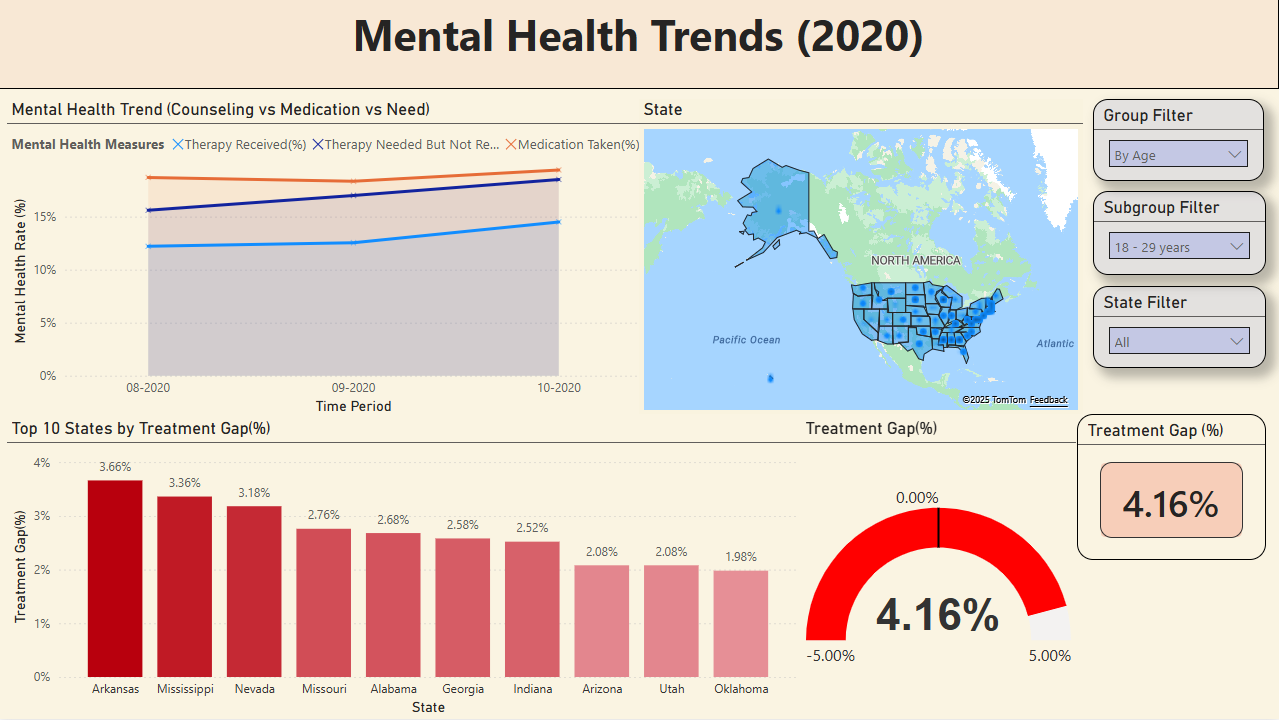

The page's visual inventory and layout, read from the dashboard file:
{"tool":"powerbi","page":{"name":"Page 1","canvas":[1280,720],"ordinal":0},"visuals":[{"type":"lineChart","title":"Mental Health Trend (Counseling vs Medication vs Need)","fields":{"Category":["Calendar.YearMonth"],"Y":["Mental_Health_Care_in_the_Last_4_Weeks.TherapyReceived%","Mental_Health_Care_in_the_Last_4_Weeks.TherapyNeededButNotReceived%","Mental_Health_Care_in_the_Last_4_Weeks.MedicationTaken%"]},"box":[8.1,99.7,639.2,319.6],"z":0},{"type":"slicer","title":"State Filter","fields":{"Values":["Mental_Health_Care_in_the_Last_4_Weeks.State"]},"box":[1094.2,286.9,173.1,82.5],"z":1000},{"type":"slicer","title":"Group Filter","fields":{"Values":["Mental_Health_Care_in_the_Last_4_Weeks.Group"]},"box":[1094.2,99.9,170.7,82.5],"z":2000},{"type":"slicer","title":"Subgroup Filter","fields":{"Values":["Mental_Health_Care_in_the_Last_4_Weeks.Subgroup"]},"box":[1094.2,191.7,173.1,84.8],"z":3000},{"type":"textbox","box":[0,0,1280,89.7],"z":4000},{"type":"azureMap","fields":{"Category":["Mental_Health_Care_in_the_Last_4_Weeks.State"]},"box":[640,99.9,443.7,314.8],"z":5000},{"type":"cardVisual","title":"Treatment Gap (%)","fields":{"Data":["Mental_Health_Care_in_the_Last_4_Weeks.Treatment Gap(%)"]},"box":[1077.9,414.7,189.3,146.4],"z":6000},{"type":"clusteredColumnChart","title":"Top 10 States by Treatment Gap(%)","fields":{"Category":["Mental_Health_Care_in_the_Last_4_Weeks.State"],"Y":["Mental_Health_Care_in_the_Last_4_Weeks.Treatment Gap(%)"]},"box":[8.1,419.3,794.5,300.8],"z":7000},{"type":"gauge","fields":{"Y":["Mental_Health_Care_in_the_Last_4_Weeks.Treatment Gap(%)"]},"box":[802.3,419.3,275.1,285.2],"z":8000}]}

Visuals, with their boxes in screenshot pixels (x1, y1, x2, y2), scaled from the page's 1280x720 canvas onto the 1279x720 screenshot:
"Mental Health Trend (Counseling vs Medication vs Need)" lineChart: (left=8, top=100, right=647, bottom=419)
"State Filter" slicer: (left=1093, top=287, right=1266, bottom=369)
"Group Filter" slicer: (left=1093, top=100, right=1264, bottom=182)
"Subgroup Filter" slicer: (left=1093, top=192, right=1266, bottom=276)
textbox: (left=0, top=0, right=1278, bottom=90)
azureMap - Mental_Health_Care_in_the_Last_4_Weeks.State: (left=640, top=100, right=1083, bottom=415)
"Treatment Gap (%)" cardVisual: (left=1077, top=415, right=1266, bottom=561)
"Top 10 States by Treatment Gap(%)" clusteredColumnChart: (left=8, top=419, right=802, bottom=719)
gauge - Mental_Health_Care_in_the_Last_4_Weeks.Treatment Gap(%): (left=802, top=419, right=1077, bottom=704)
